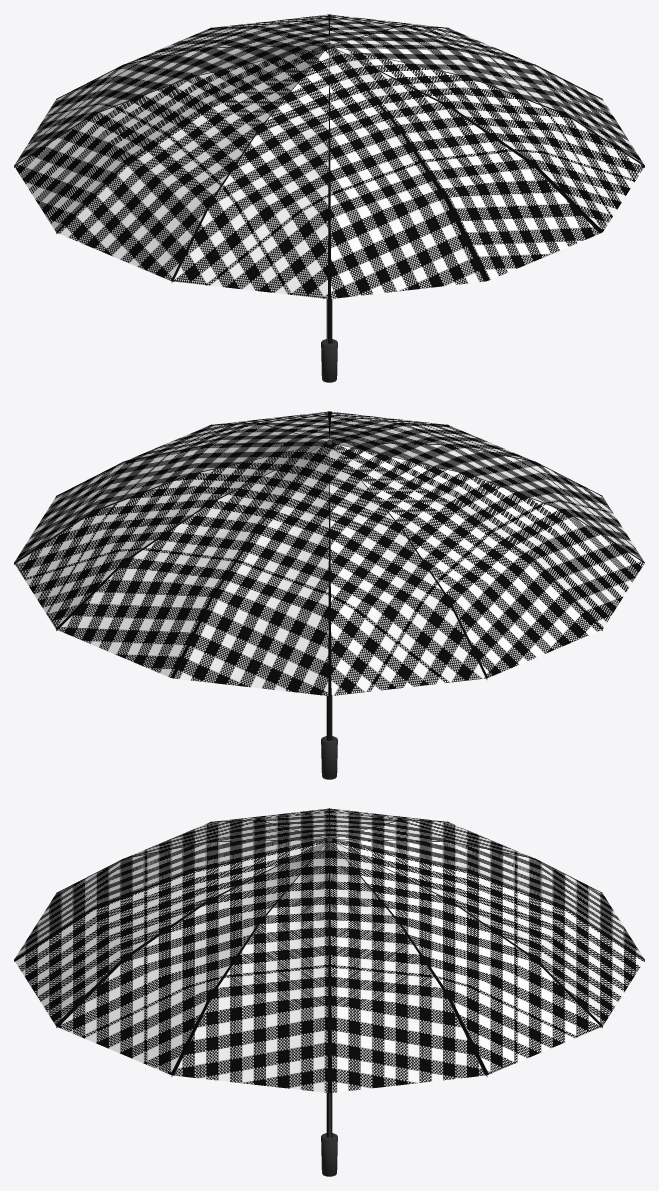
The model's file is umbrella.glb.
3 views of the same model, one above another, from view 1: azimuth 30°, elevation 25°; view 2: azimuth 150°, elevation 25°; view 3: azimuth 270°, elevation 25° (orthographic).
Parts seen in each view (by area): view 1: Tecido-material, Espuma-material; view 2: Tecido-material, Espuma-material; view 3: Tecido-material, Espuma-material.
Boxes of the visible parts, x1,y1,x2,y2 form: Tecido-material: (14, 14, 644, 298); Espuma-material: (321, 339, 337, 382); Tecido-material: (14, 411, 644, 695); Espuma-material: (321, 736, 337, 779); Tecido-material: (14, 808, 644, 1092); Espuma-material: (321, 1133, 337, 1176).
Size of the model in its own units: 1.32 by 0.777 by 1.32.
5 materials, 1 textured.
